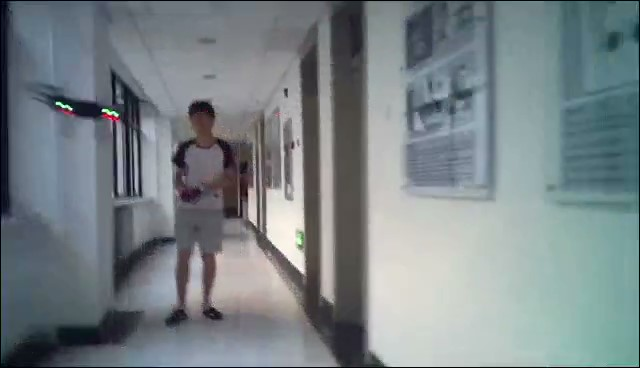drone: (21, 78, 150, 142)
person: (162, 99, 234, 328)
